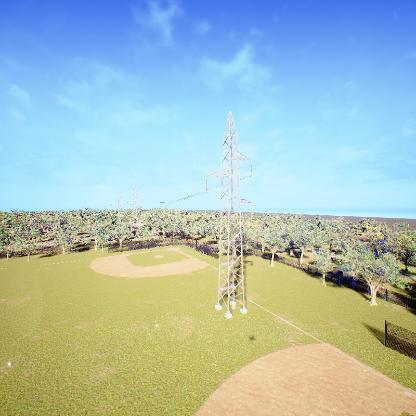tower: (203, 110, 254, 321)
